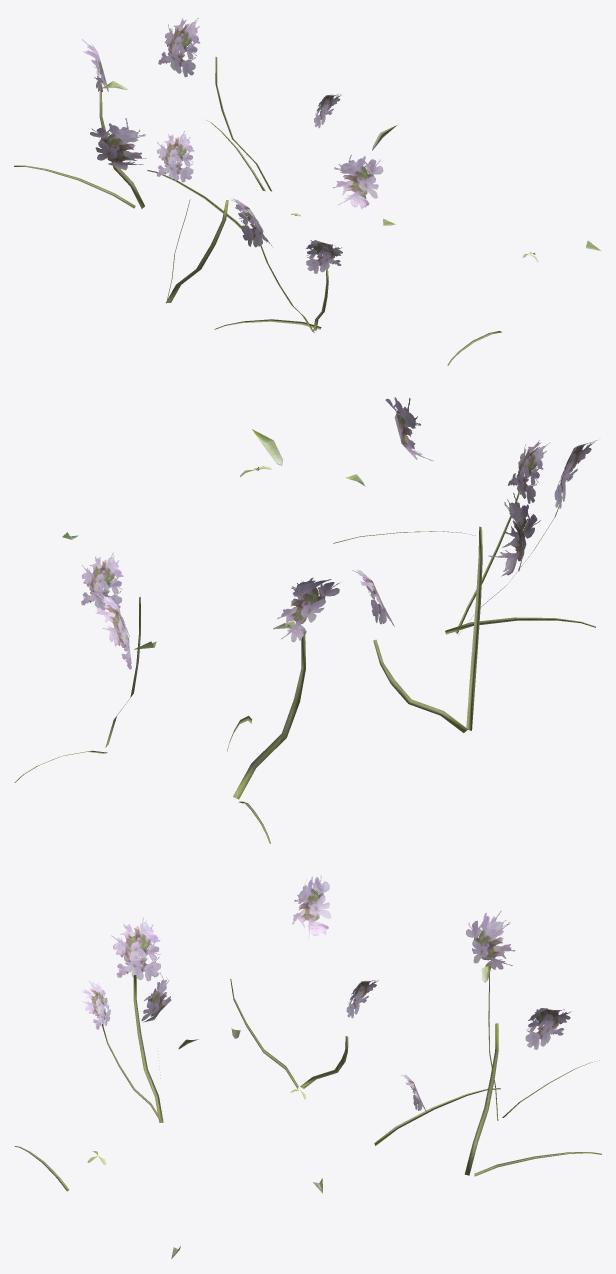
File: flower_pink_shadow.glb
The picture shows the model from 3 angles, top to bottom: view 1: azimuth 30°, elevation 25°; view 2: azimuth 150°, elevation 25°; view 3: azimuth 270°, elevation 25°; orthographic projection. The views are drawn at different scales.
Parts seen in each view (by area): view 1: bq_Flower_Thymus-serpyllum_C_summer; view 2: bq_Flower_Thymus-serpyllum_C_summer; view 3: bq_Flower_Thymus-serpyllum_C_summer.
Boxes of the visible parts, x1=… form: bq_Flower_Thymus-serpyllum_C_summer: x1=14, y1=18, x2=600, y2=365; bq_Flower_Thymus-serpyllum_C_summer: x1=14, y1=397, x2=596, y2=843; bq_Flower_Thymus-serpyllum_C_summer: x1=14, y1=874, x2=601, y2=1258.
Size of the model in its own units: 0.2218 by 0.0939 by 0.2591.
2 materials, 2 textured.
